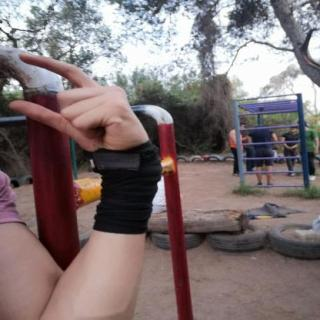DELL: (2, 42, 162, 166)
